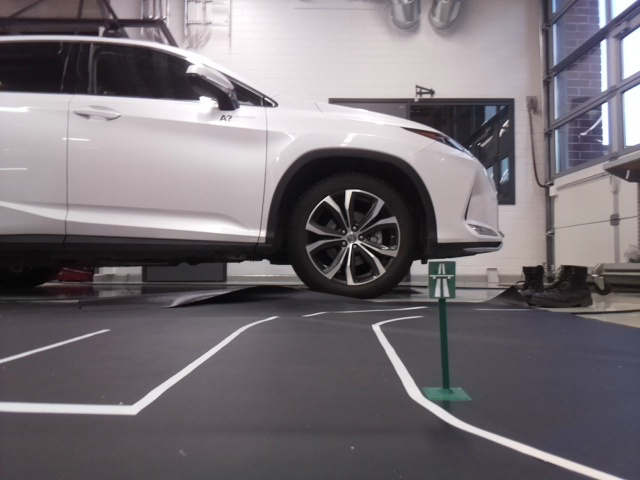HighwayEntrance: (430, 262, 456, 298)
